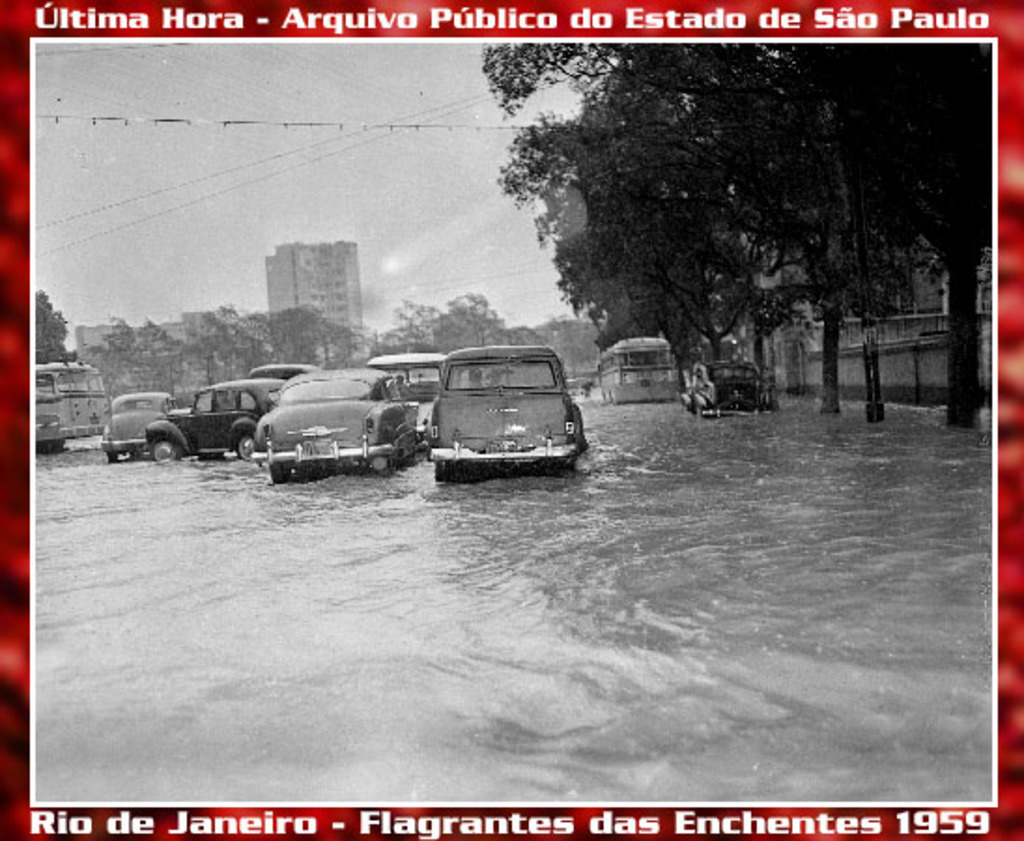Car: (403, 343, 583, 482), (248, 360, 418, 485), (140, 379, 293, 456), (369, 353, 463, 442), (683, 351, 781, 420), (100, 386, 179, 457)
